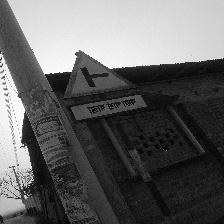Side-road-left: (63, 51, 149, 123)
